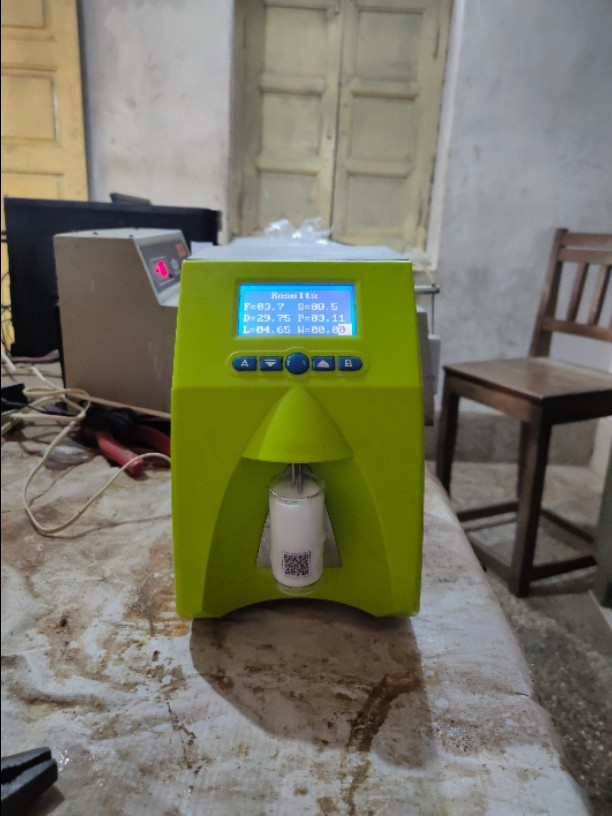lcd: (236, 282, 359, 336)
qr: (282, 552, 314, 579)
